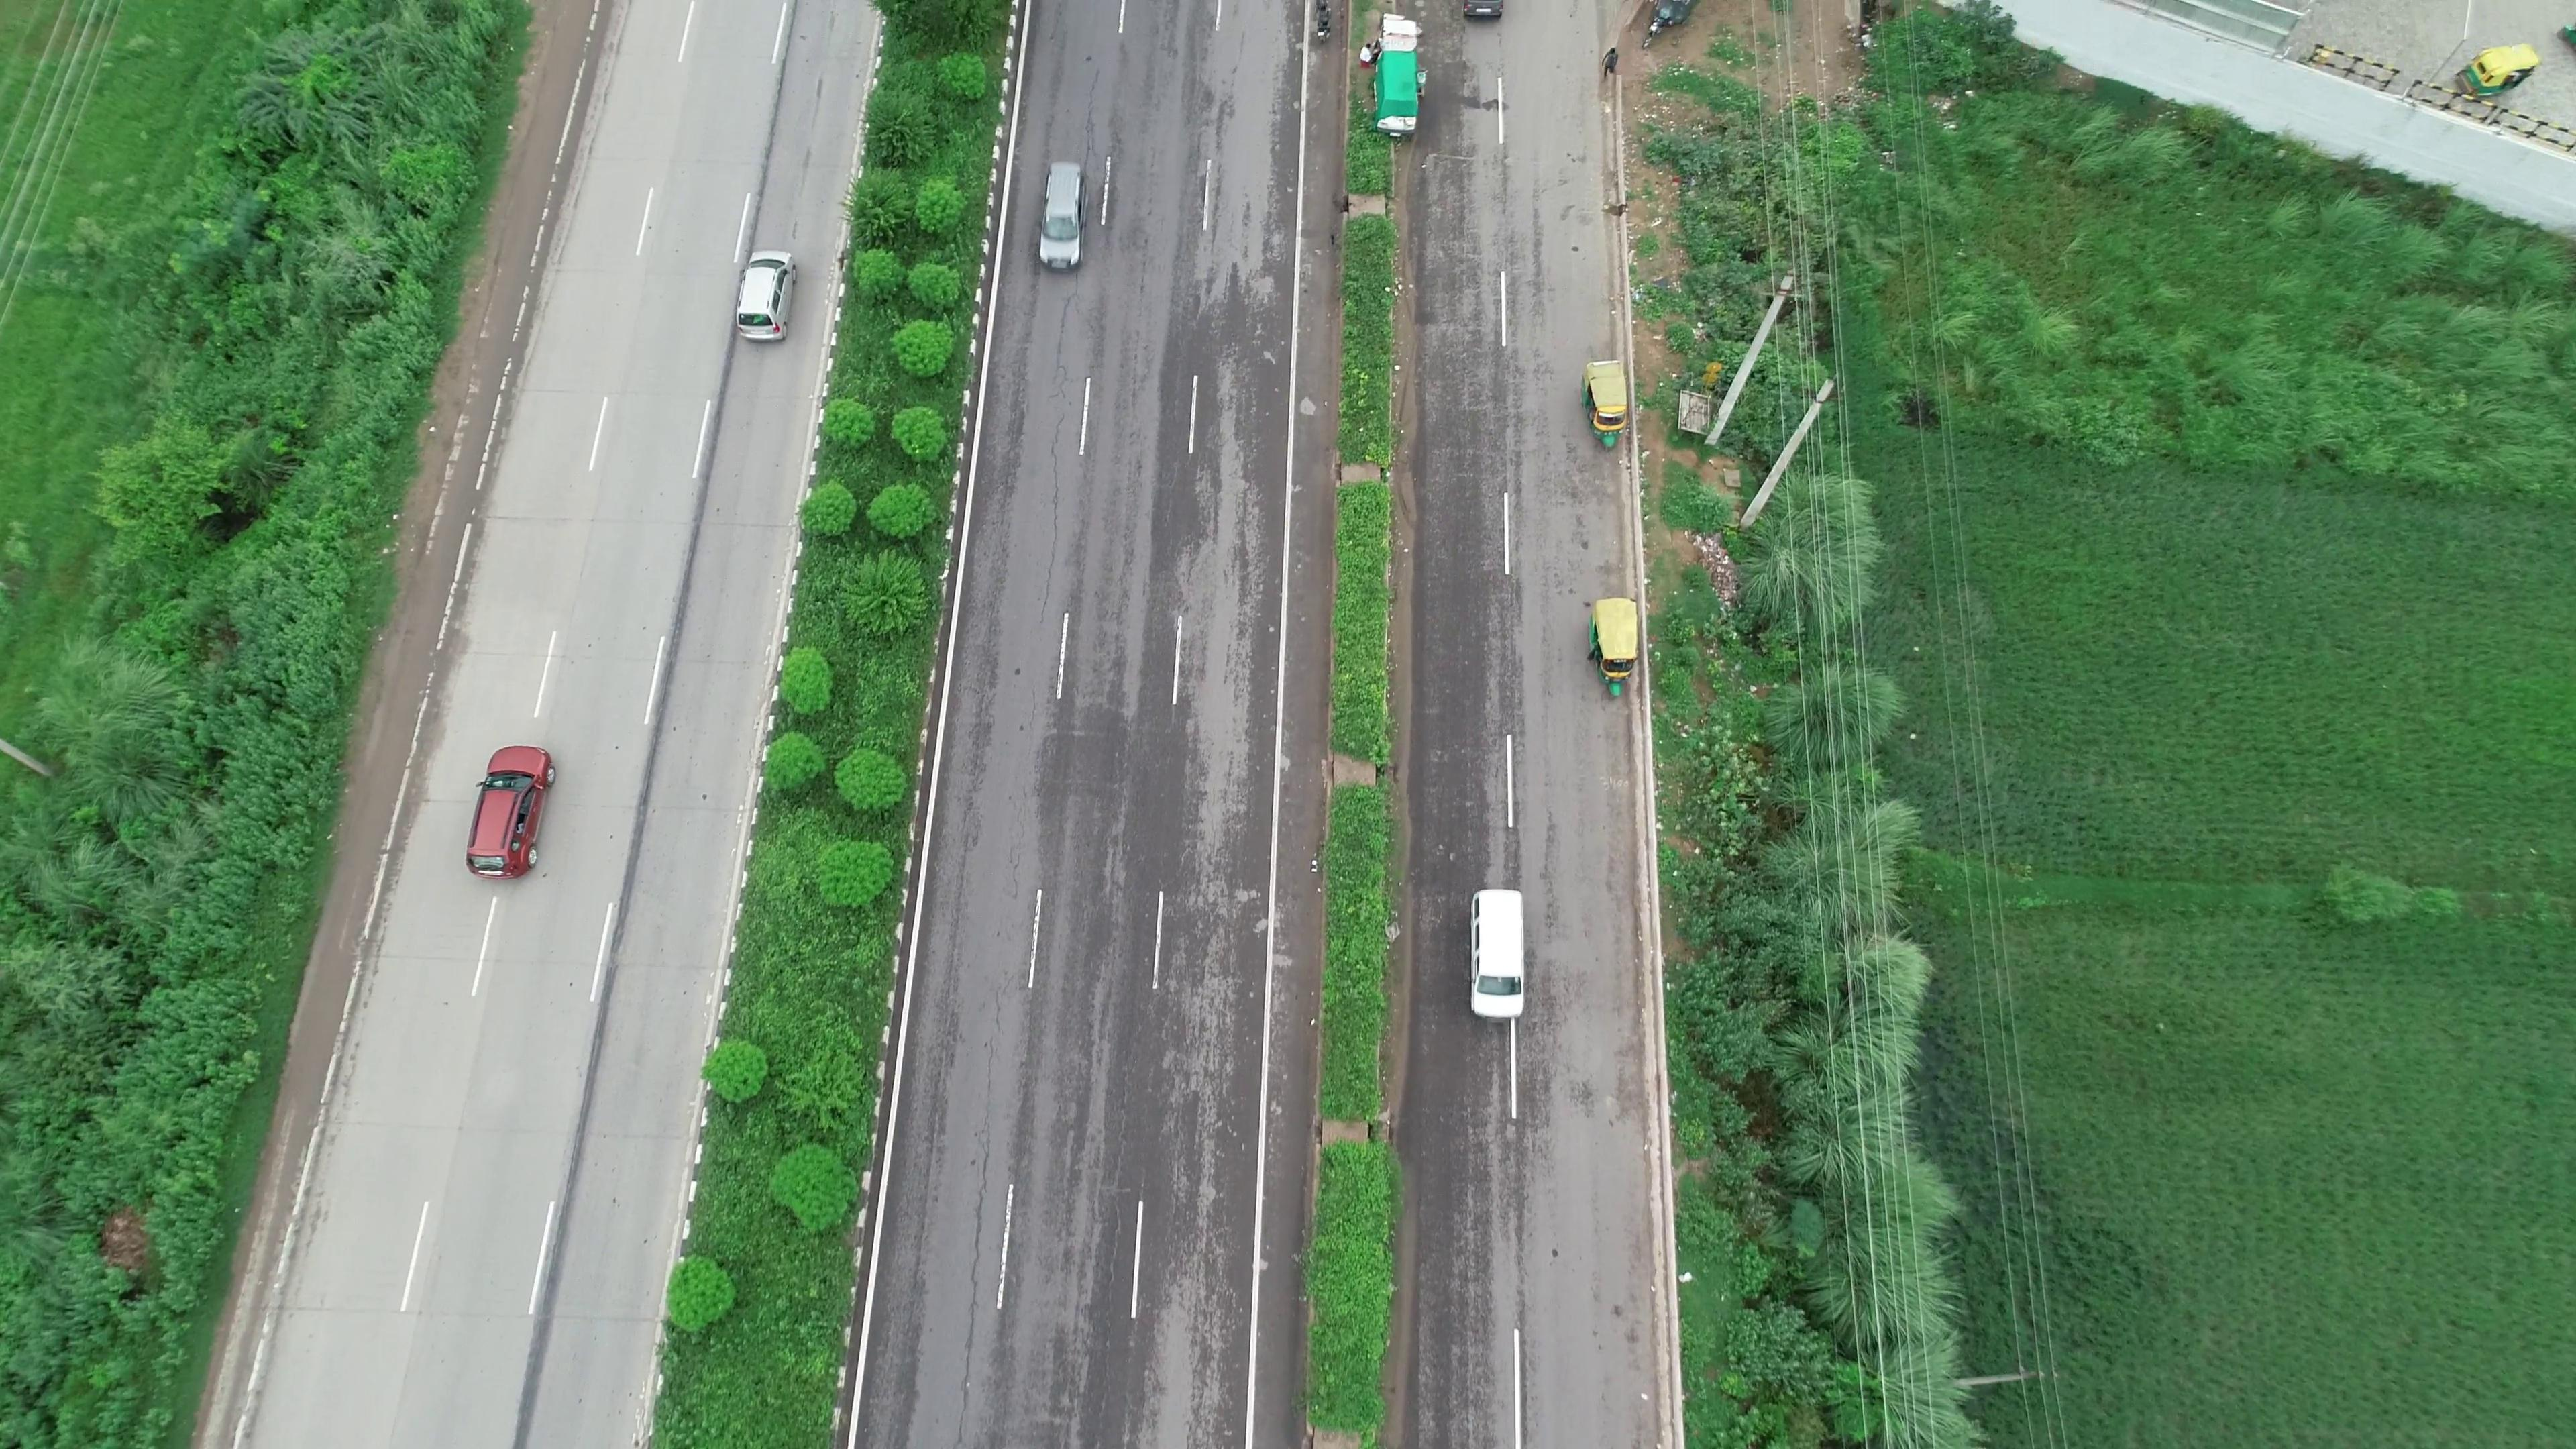Longitudinal_cracks: (947, 985, 1010, 1440), (1021, 278, 1088, 642)
